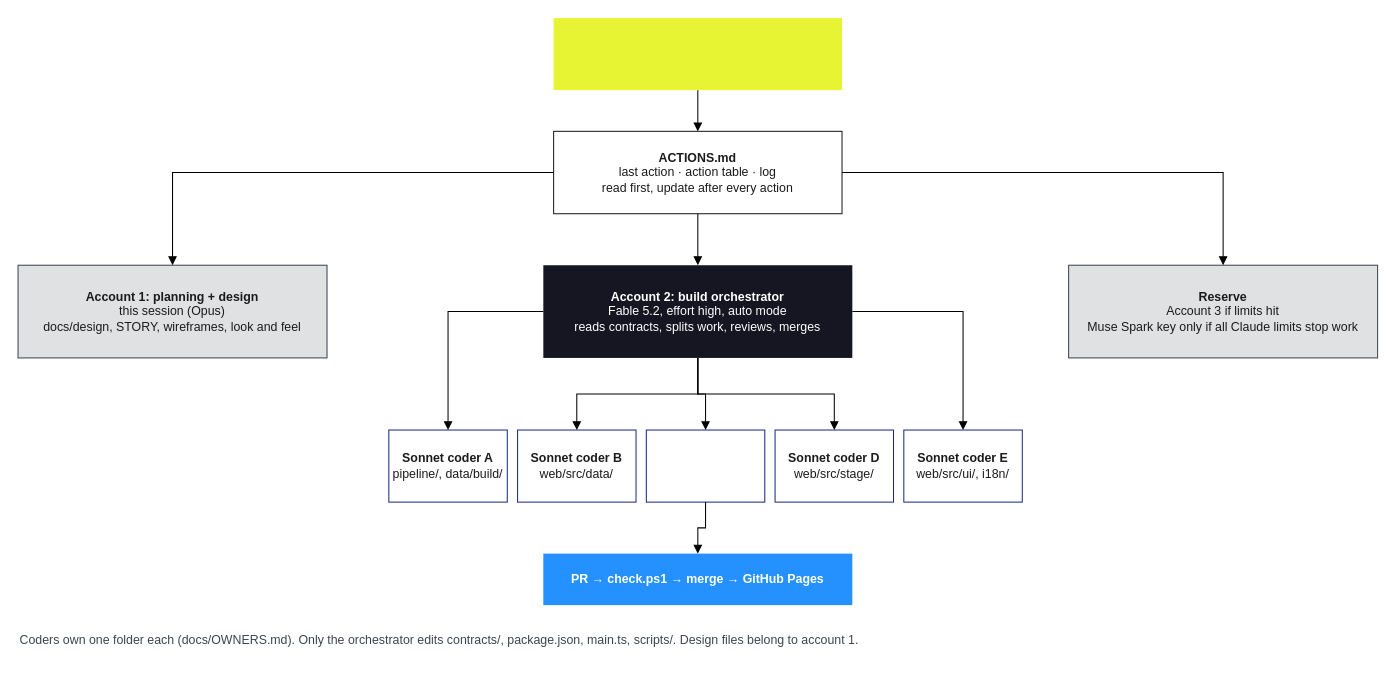
Image size: 1396x674. Some labels were removed from this diagram. The shapes that lost their labels are listed below. From the top down, each one's centre as x and y in pixels, then its label:
the point at 697,54: Karim 3 Claude accounts, switches any time approves in his own words
the point at 705,465: Sonnet coder C web/src/engine/, stories/
